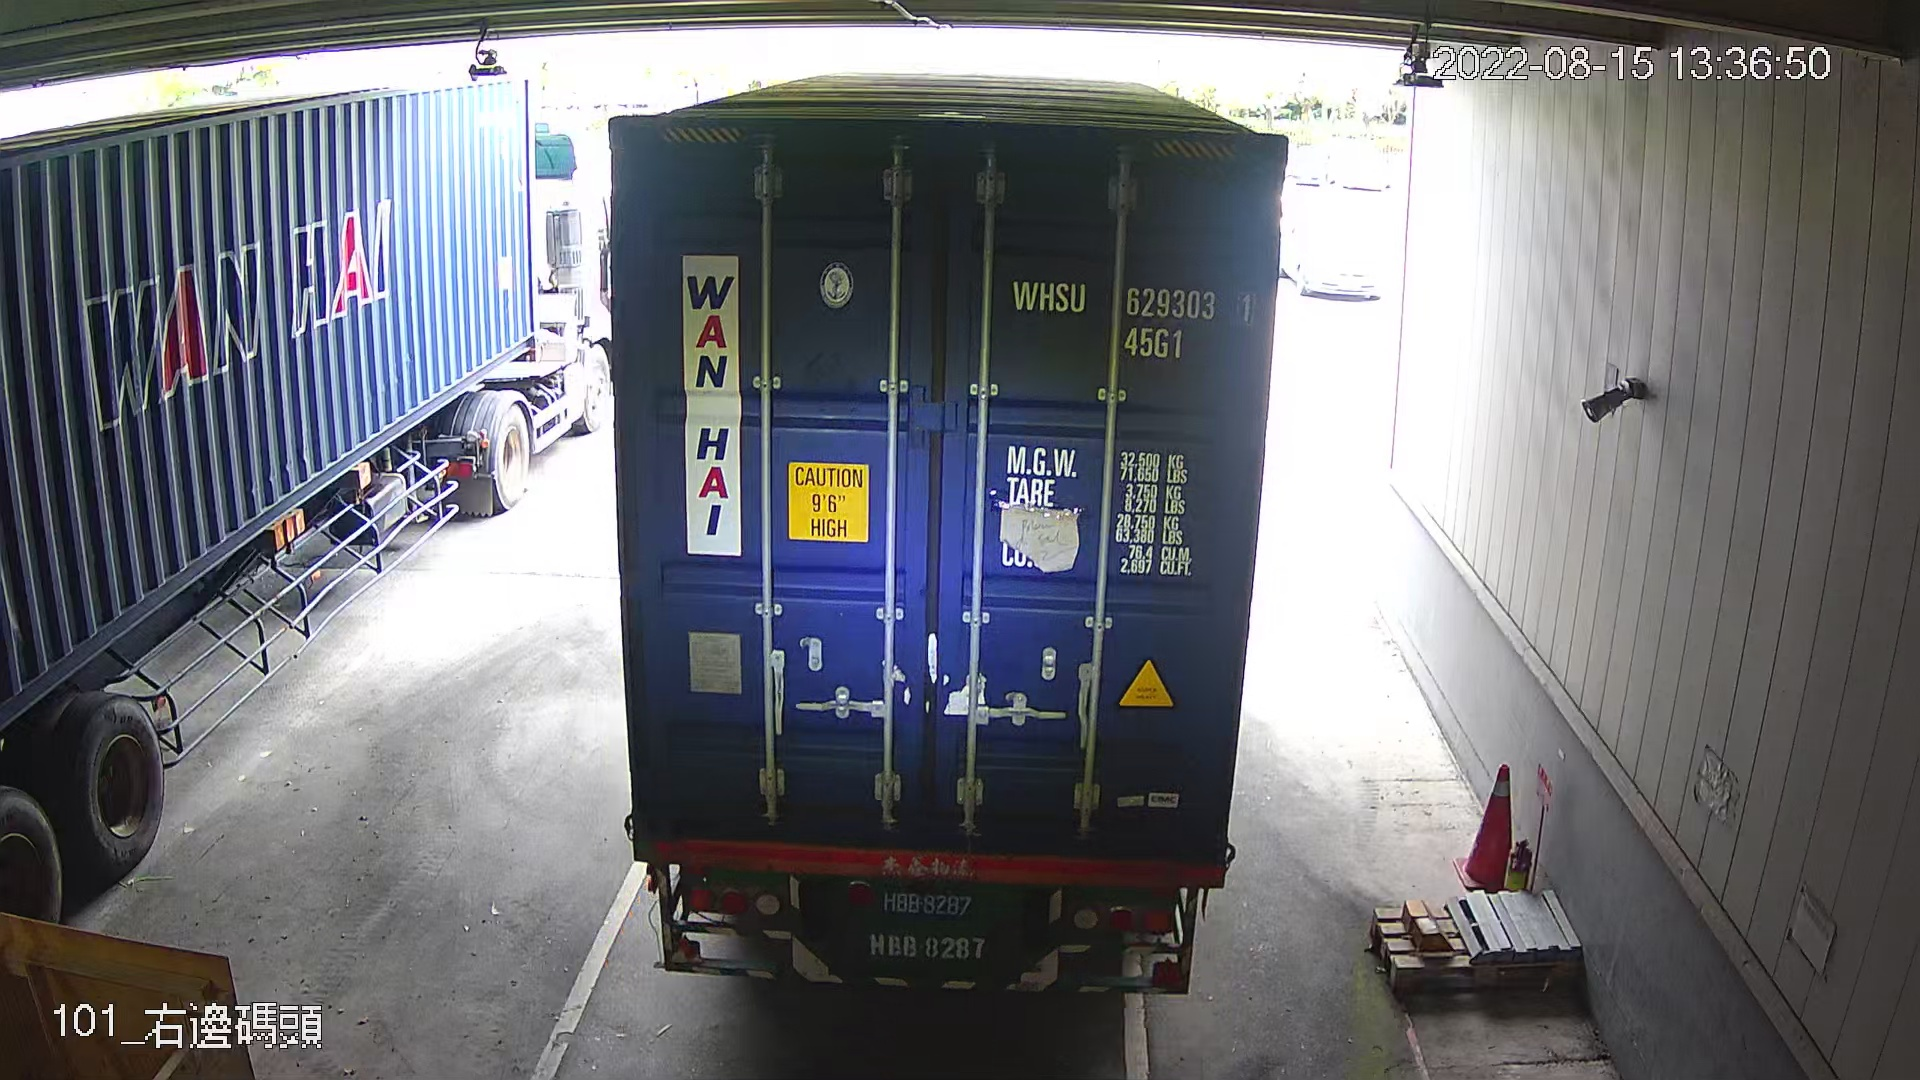container: (1001, 262, 1263, 367)
